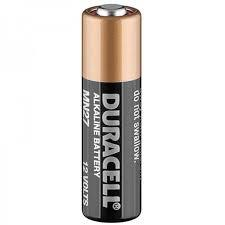AA: (80, 3, 142, 222)
